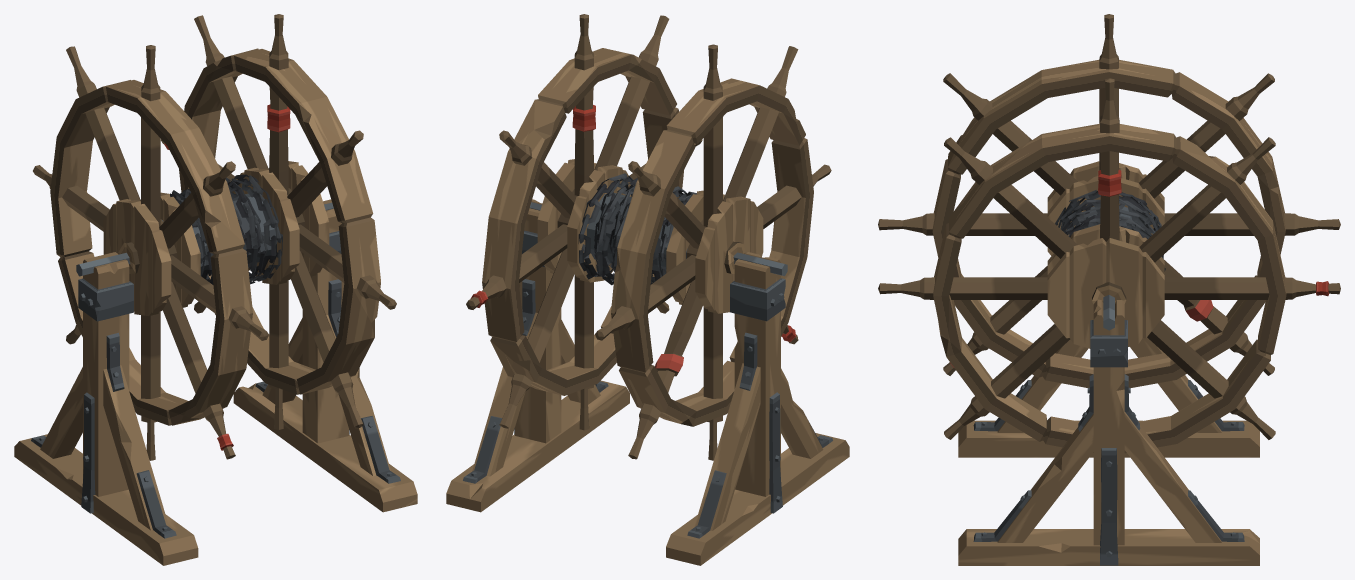
File: SM_Prop_Drive_Wheel_03.fbx
3 views of the same model, side by side, from view 1: azimuth 30°, elevation 25°; view 2: azimuth 150°, elevation 25°; view 3: azimuth 270°, elevation 25° (orthographic).
Visible parts, largest first — view 1: SM_Prop_Drive_Wheel_03, SM_Prop_Drive_Wheel_03_Chain_01; view 2: SM_Prop_Drive_Wheel_03, SM_Prop_Drive_Wheel_03_Chain_01; view 3: SM_Prop_Drive_Wheel_03, SM_Prop_Drive_Wheel_03_Chain_01.
Part boxes in pixels (left/top/right/bottom): SM_Prop_Drive_Wheel_03: left=14, top=14, right=417, bottom=565; SM_Prop_Drive_Wheel_03_Chain_01: left=170, top=174, right=282, bottom=284; SM_Prop_Drive_Wheel_03: left=446, top=14, right=849, bottom=565; SM_Prop_Drive_Wheel_03_Chain_01: left=578, top=173, right=696, bottom=285; SM_Prop_Drive_Wheel_03: left=878, top=14, right=1340, bottom=565; SM_Prop_Drive_Wheel_03_Chain_01: left=1055, top=190, right=1165, bottom=271.
Bounding box in the file's own units: 213 × 335 × 309.
